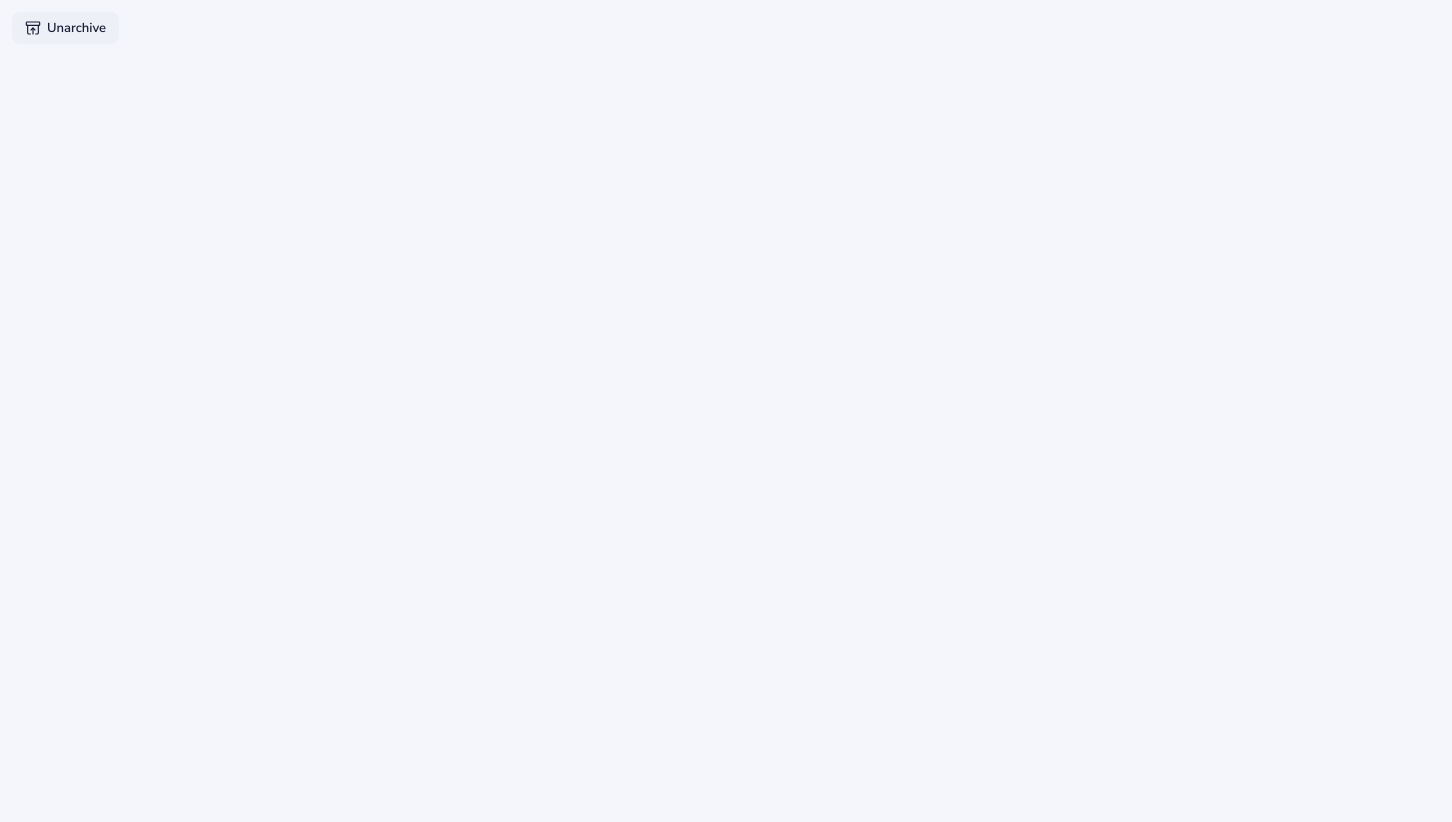
Test: DriverActions › an archived driver › refetches the driver, so the full set of actions comes back
Click the button "Unarchive" at (66, 28), box [12,12,119,44]
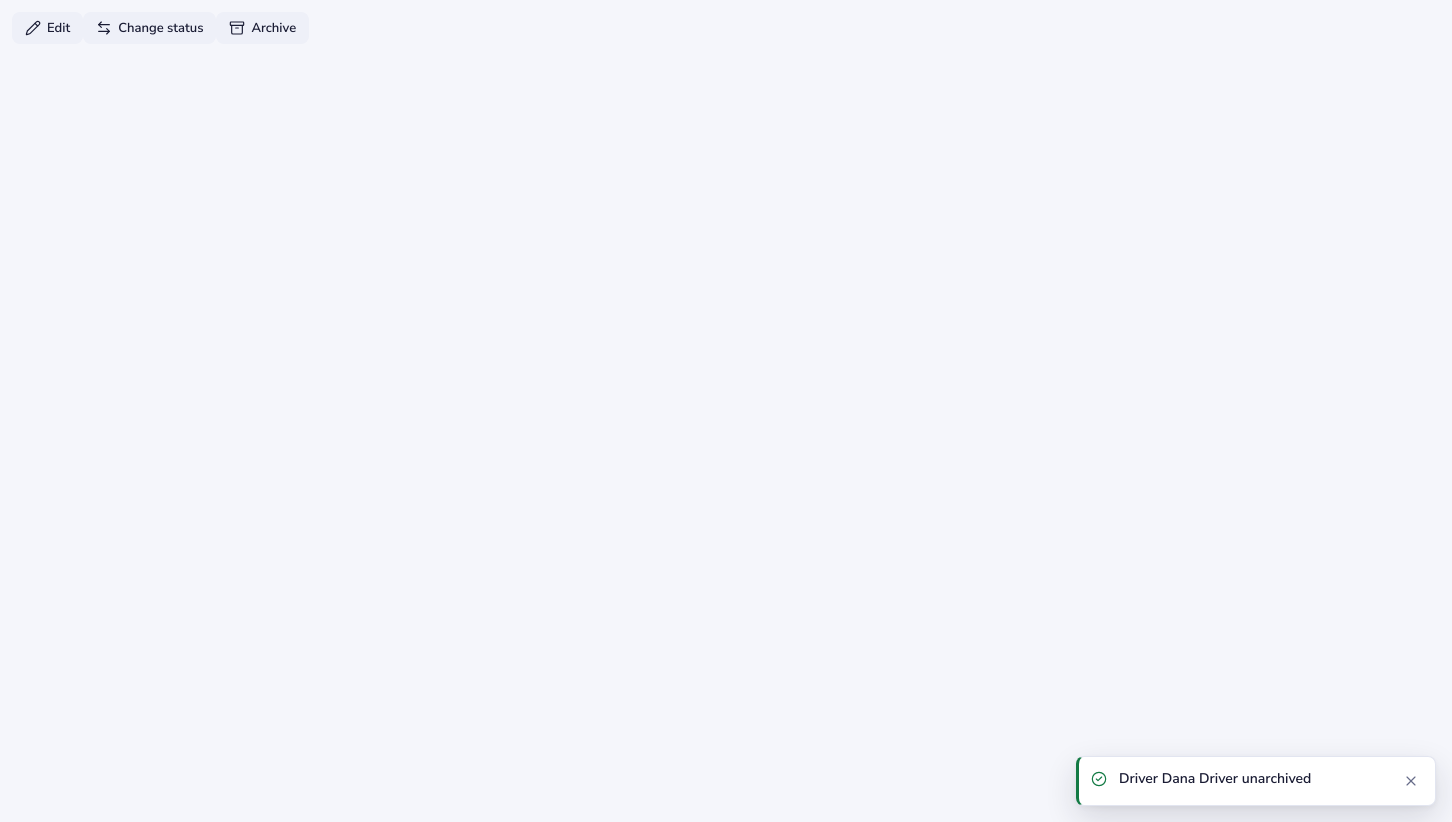
Check: the button "Archive" is shown, box [216,12,309,44]
Check: the link "Edit" is shown, box [12,12,83,44]
